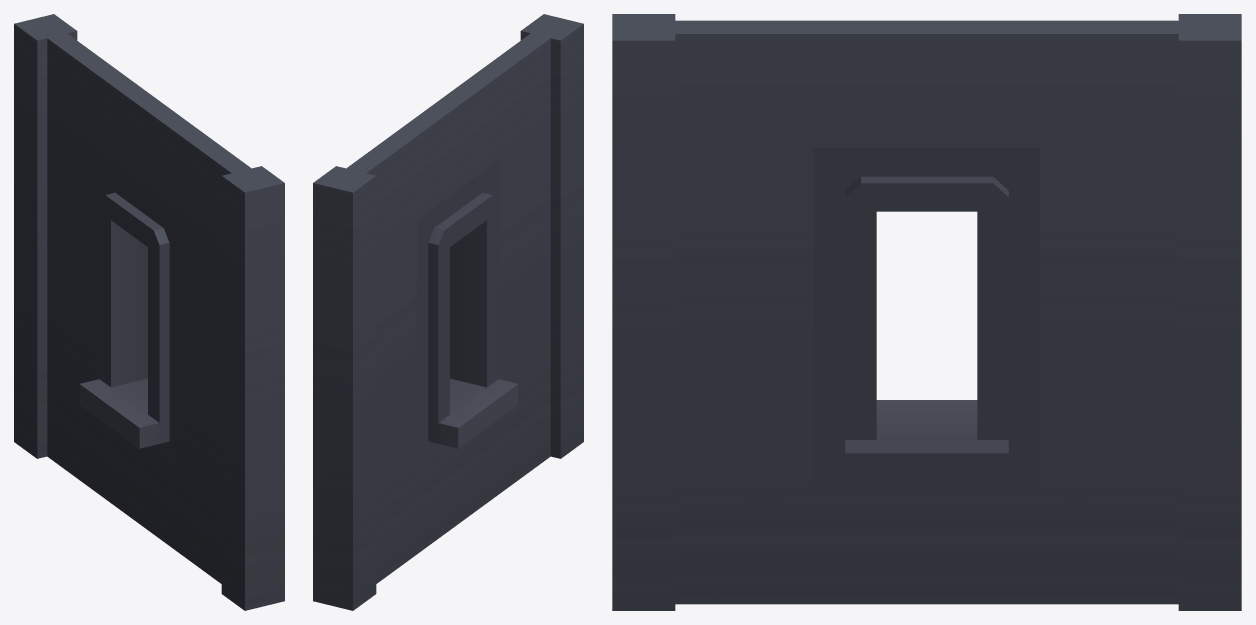
Rendered from wall-wood-window-small.glb.
3 views of the same model, side by side, from view 1: azimuth 30°, elevation 25°; view 2: azimuth 150°, elevation 25°; view 3: azimuth 270°, elevation 25° (orthographic). The views are drawn at different scales.
Visible parts, largest first — view 1: wall-wood-window-small; view 2: wall-wood-window-small; view 3: wall-wood-window-small.
Part boxes in pixels (x1,y1,x2,y2): wall-wood-window-small: (14, 14, 284, 610); wall-wood-window-small: (313, 14, 583, 610); wall-wood-window-small: (612, 14, 1241, 610).
Bounding box in the file's own units: 0.2 × 1 × 1.
Materials: 1 (1 with a texture image).
